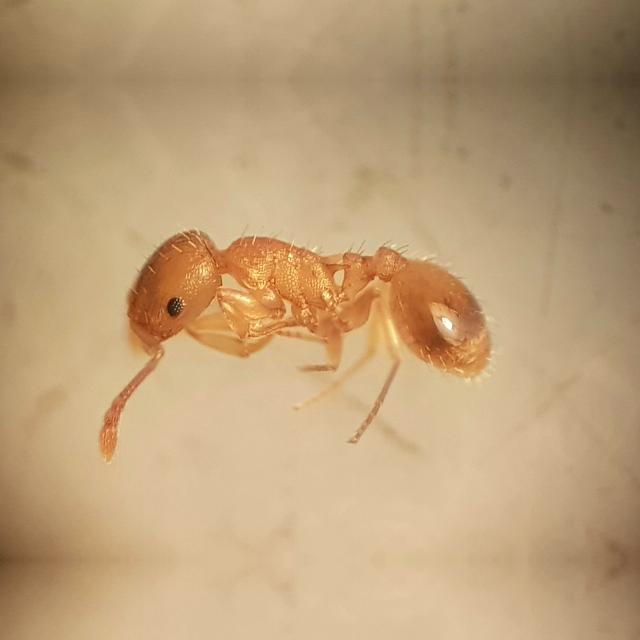Temnothorax: (90, 189, 502, 439)
